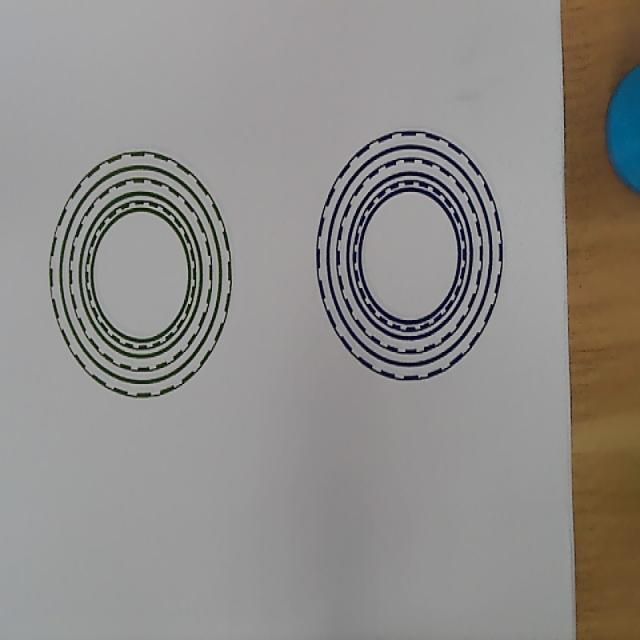b: (316, 129, 503, 380)
g: (49, 150, 233, 398)
